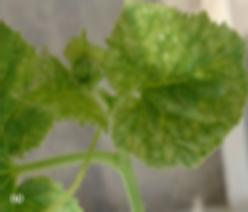Tomato leaf mosaic virus: (109, 4, 243, 166)
